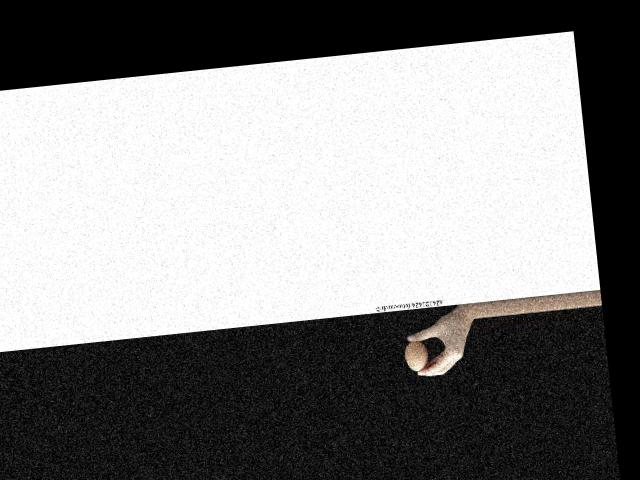egg: (403, 339, 429, 373)
